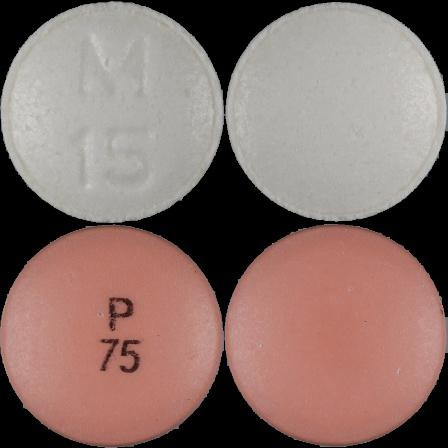66336-437: (0, 0, 224, 224)
